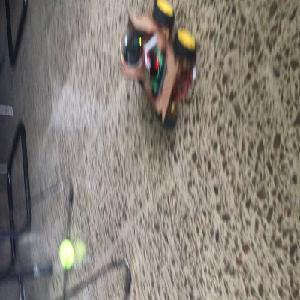Ball: (58, 239, 74, 268)
Robot: (119, 0, 198, 128)
